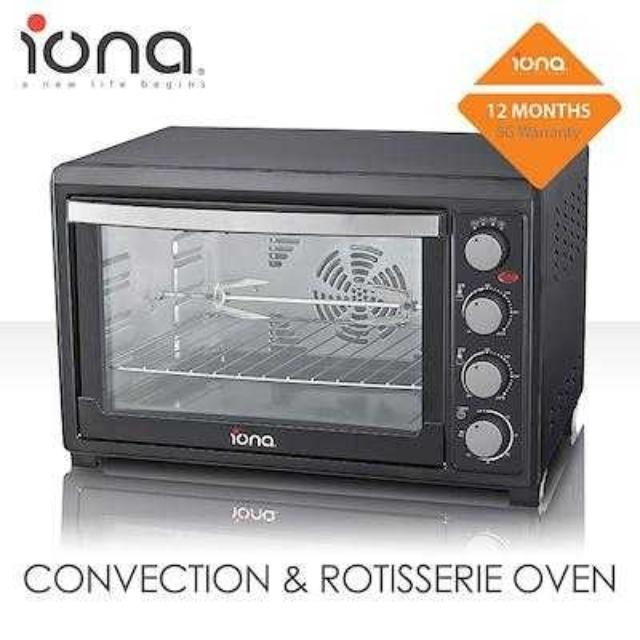Oven: (48, 156, 550, 514)
